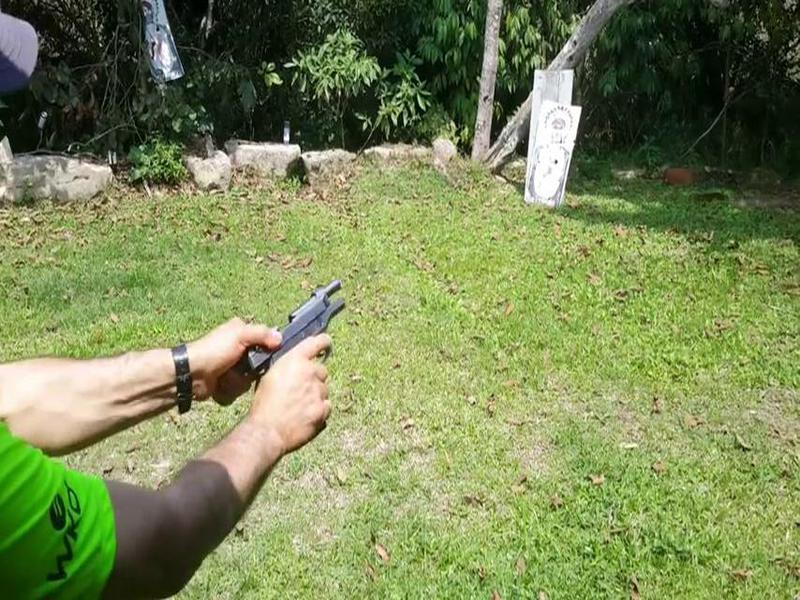Pistola: (242, 274, 354, 424)
